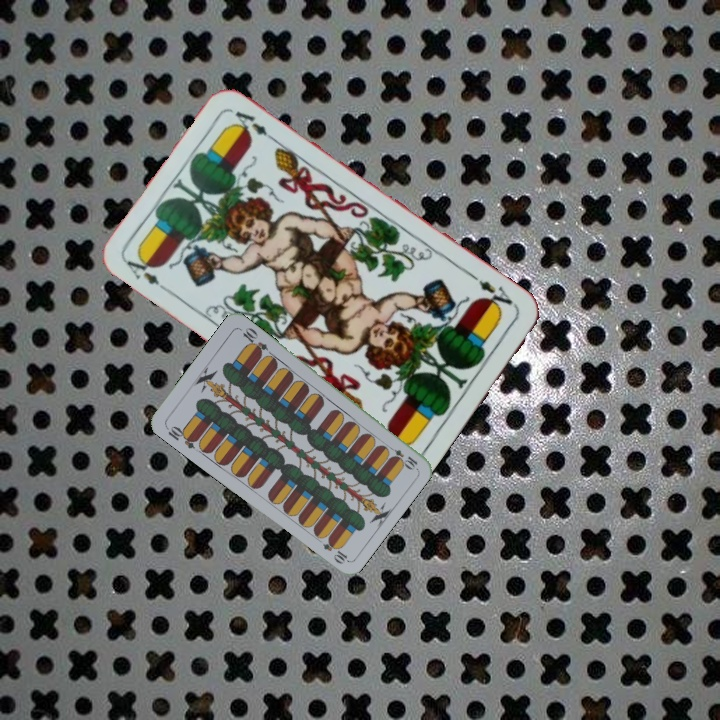E10: (162, 421, 200, 451), (383, 441, 420, 471)
EA: (122, 251, 173, 296), (467, 270, 519, 314)
